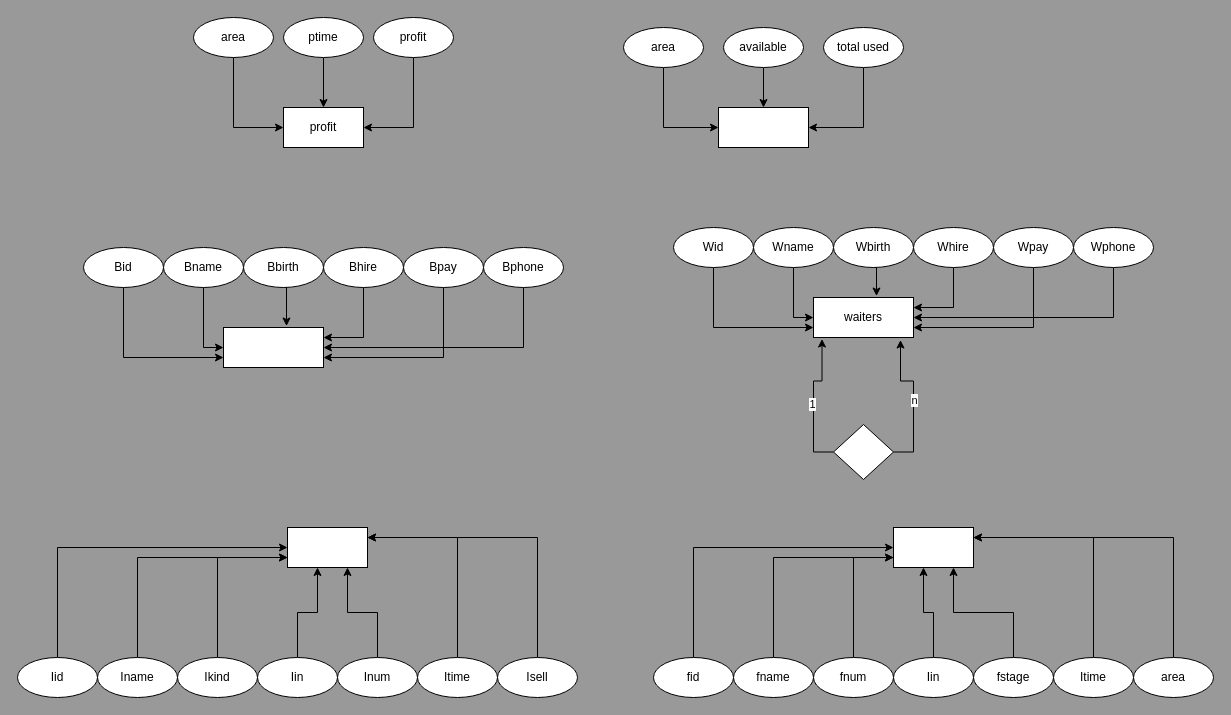
This 1231x715 diagram has some shape labels left out. Each missing label, with the box of its shape:
bartenders: (222, 326, 324, 368)
facilities: (892, 526, 974, 568)
inventory: (286, 526, 368, 568)
manage: (832, 424, 894, 480)
seat: (718, 106, 808, 148)
